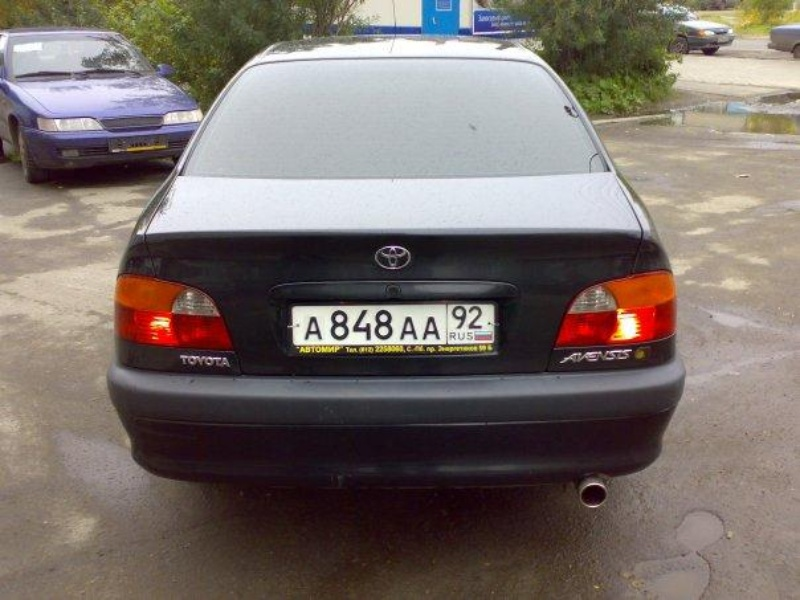car: (108, 35, 686, 508), (1, 30, 203, 184), (664, 5, 732, 55)
plate: (295, 305, 492, 342)
